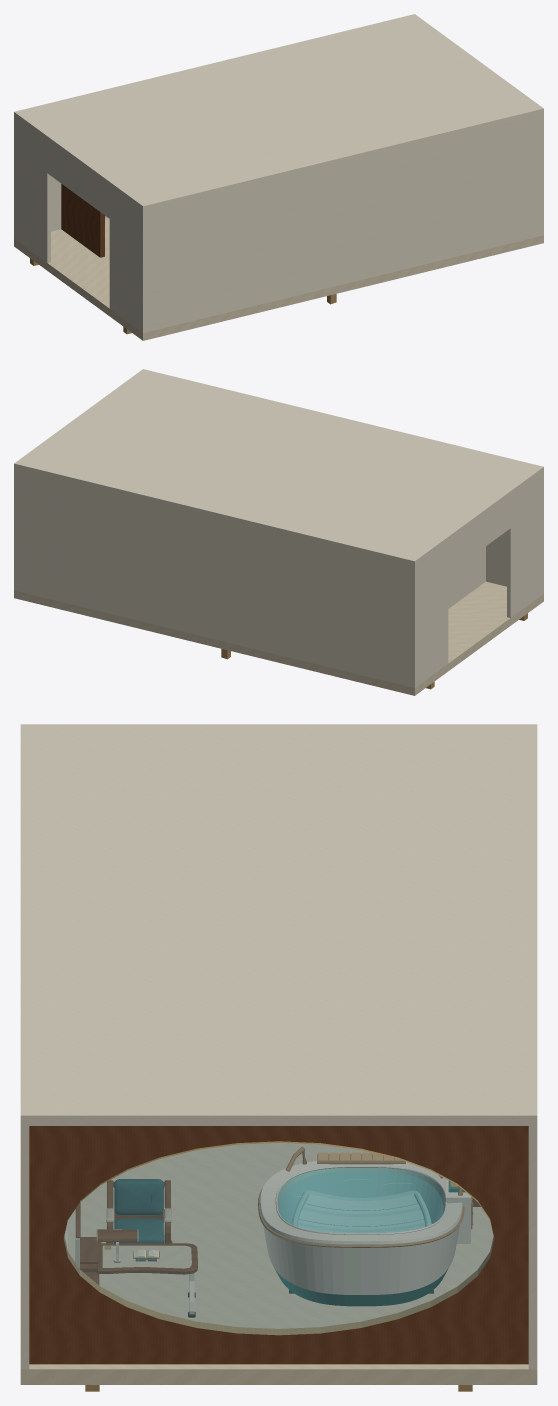
File: StarAtlasSpecialty_419_Production.glb
3 renders of one model, top to bottom at view 1: azimuth 30°, elevation 25°; view 2: azimuth 150°, elevation 25°; view 3: azimuth 270°, elevation 25°, orthographic. The views are drawn at different scales.
Visible parts, largest first — view 1: SA419_Ceiling, SA419_SouthSide, SA419_RoomFloor, SA419_EntryShoulderNorth, SA419_EntryShoulderSouth, SA419_EntryHeader, SA419_EntryPrivacyDogleg, SA419_NorthSide; view 2: SA419_Ceiling, SA419_NorthSide, SA419_RoomFloor, SA419_EntryShoulderSouth, SA419_EntryShoulderNorth, SA419_EntryHeader, SA419_WashEntrySide, SA419_SouthSide; view 3: SA419_Ceiling, SA419_OvalAtriumGlass, SA419_OvalWindowReveal, SA419_RoomFloor, SA419_ReservedRestSupport__Hollow continuous basin shell wit, SA419_ReservedRestSupport__WaterSurface_VisualOnly, SA419_ReservedRestSupport__Contoured broad immersed rest sup, SA419_OvalDepthReturn, SA419_NorthSide, SA419_SouthSide, SA419_DayReadingChair__DAY_CHAIR_single_reclined_back_cushio, SA419_LibraryStudyEdge__SINGLE_inset_stone_writing_surface (+4 smaller).
Part boxes in pixels (x1=…): SA419_Ceiling: x1=14, y1=14, x2=543, y2=211; SA419_SouthSide: x1=141, y1=114, x2=543, y2=332; SA419_RoomFloor: x1=14, y1=218, x2=543, y2=340; SA419_EntryShoulderNorth: x1=16, y1=119, x2=50, y2=262; SA419_EntryShoulderSouth: x1=109, y1=187, x2=140, y2=331; SA419_EntryHeader: x1=46, y1=141, x2=110, y2=219; SA419_EntryPrivacyDogleg: x1=61, y1=184, x2=104, y2=257; SA419_NorthSide: x1=14, y1=117, x2=107, y2=239; SA419_Ceiling: x1=14, y1=369, x2=543, y2=566; SA419_NorthSide: x1=14, y1=469, x2=416, y2=687; SA419_RoomFloor: x1=14, y1=581, x2=543, y2=695; SA419_EntryShoulderSouth: x1=507, y1=474, x2=541, y2=617; SA419_EntryShoulderNorth: x1=417, y1=543, x2=448, y2=686; SA419_EntryHeader: x1=447, y1=496, x2=511, y2=574; SA419_WashEntrySide: x1=448, y1=546, x2=485, y2=608; SA419_SouthSide: x1=486, y1=472, x2=543, y2=594; SA419_Ceiling: x1=20, y1=724, x2=537, y2=1125; SA419_OvalAtriumGlass: x1=64, y1=1143, x2=493, y2=1334; SA419_OvalWindowReveal: x1=29, y1=1126, x2=528, y2=1364; SA419_RoomFloor: x1=20, y1=1143, x2=537, y2=1384; SA419_ReservedRestSupport__Hollow continuous basin shell wit: x1=260, y1=1161, x2=462, y2=1306; SA419_ReservedRestSupport__WaterSurface_VisualOnly: x1=280, y1=1171, x2=442, y2=1232; SA419_ReservedRestSupport__Contoured broad immersed rest sup: x1=298, y1=1191, x2=424, y2=1232; SA419_OvalDepthReturn: x1=63, y1=1141, x2=494, y2=1335; SA419_NorthSide: x1=528, y1=1126, x2=537, y2=1369; SA419_SouthSide: x1=20, y1=1126, x2=29, y2=1369; SA419_DayReadingChair__DAY_CHAIR_single_reclined_back_cushio: x1=113, y1=1179, x2=164, y2=1214; SA419_LibraryStudyEdge__SINGLE_inset_stone_writing_surface: x1=102, y1=1245, x2=191, y2=1268.
Bounding box in the file's own units: 12.9 × 4.91 × 7.2.
61 materials, 43 textured.
